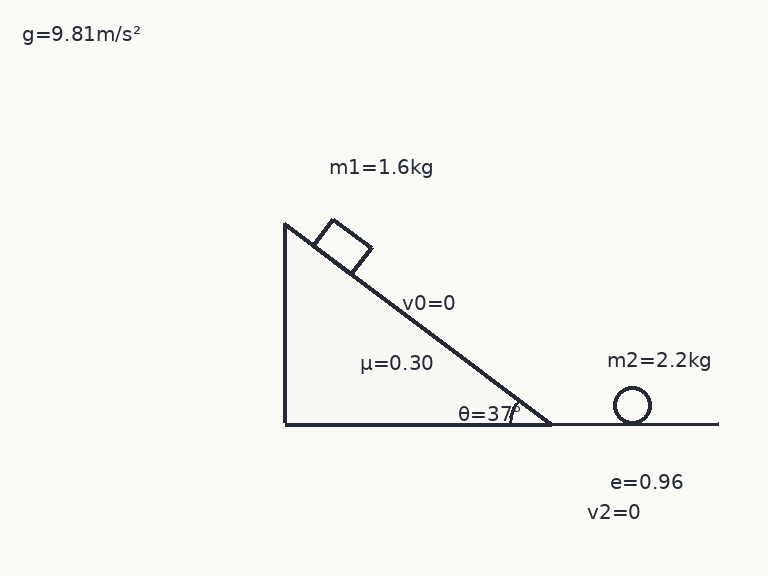ball: (611, 384, 653, 426)
block: (311, 217, 373, 276)
ramp: (282, 222, 552, 426)
